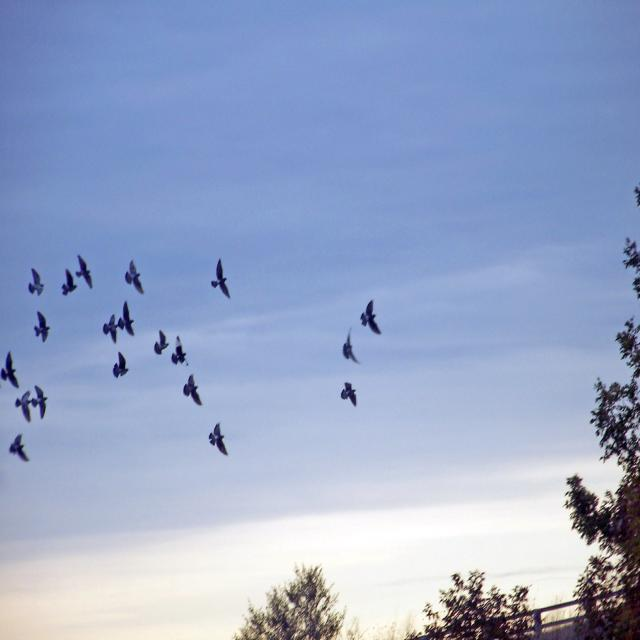bird: (213, 258, 233, 300), (125, 258, 146, 296), (360, 300, 382, 336), (208, 419, 229, 456), (2, 352, 21, 392), (75, 252, 94, 290), (183, 373, 203, 409), (14, 390, 34, 425), (8, 433, 29, 464), (341, 330, 359, 366), (120, 299, 136, 338), (34, 308, 51, 342), (34, 384, 50, 420), (101, 312, 119, 344), (339, 382, 359, 410), (173, 335, 189, 370), (114, 351, 131, 381), (30, 267, 46, 298), (61, 268, 78, 297), (154, 328, 170, 357)
